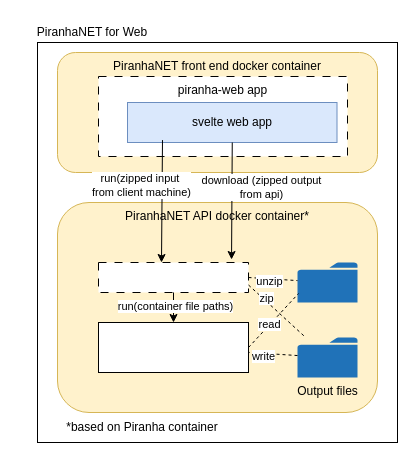
Some shapes in this 415 by 460 pixel diagram are drawn without their labels. The shapes that lost their labels are listed below. From the top down, each one's centre as x and y in pixels, then its label:
At (173,277): "piranha-api app".
At (327,282): "Input files".
At (173,347): "piranha".
